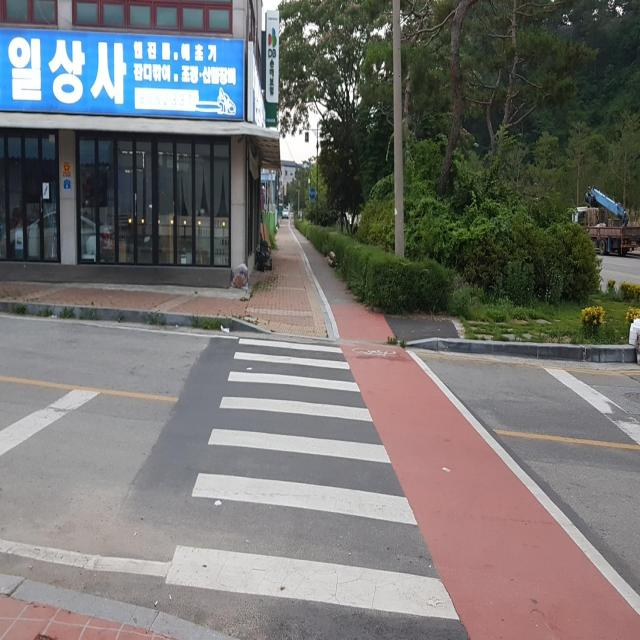횡단보도: (162, 333, 462, 625)
